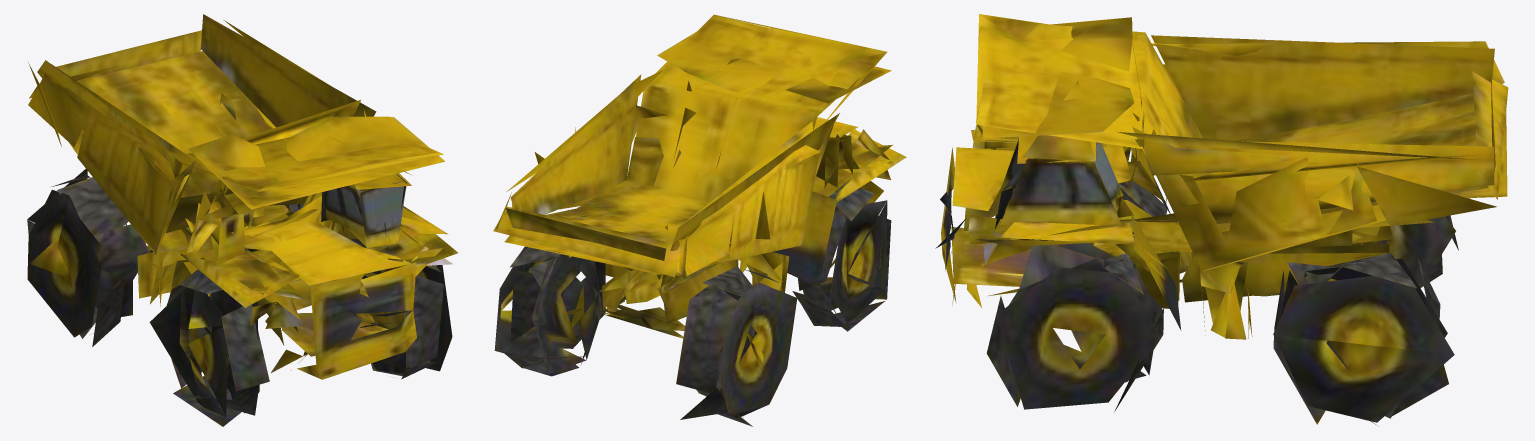
The model's file is steinbruch_kipper_lo.glb.
3 views of the same model, side by side, from view 1: azimuth 30°, elevation 25°; view 2: azimuth 150°, elevation 25°; view 3: azimuth 270°, elevation 25° (orthographic). The views are drawn at different scales.
Parts seen in each view (by area): view 1: Prop; view 2: Prop; view 3: Prop.
Boxes of the visible parts, x1=… form: Prop: x1=27, y1=14, x2=458, y2=426; Prop: x1=493, y1=14, x2=906, y2=426; Prop: x1=935, y1=14, x2=1508, y2=425.
Bounding box in the file's own units: 1.15 × 1.05 × 1.82.
1 material, 1 textured.
